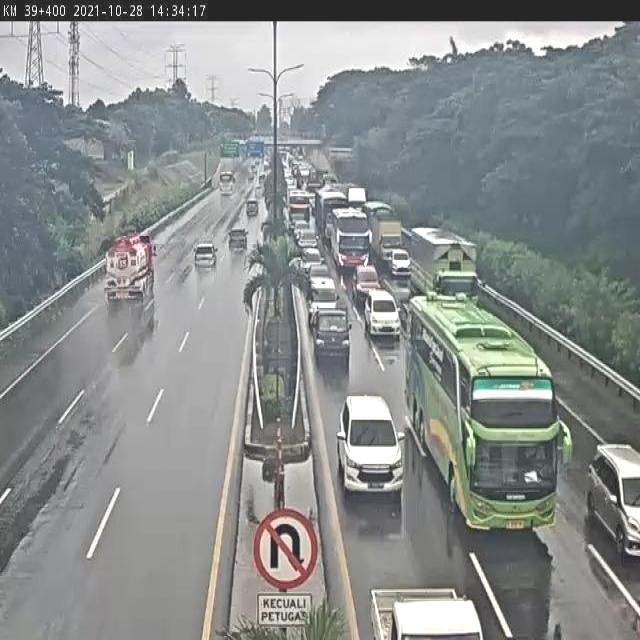Bus: (405, 291, 571, 534), (331, 207, 371, 269)
Car: (338, 394, 404, 498), (364, 288, 402, 339), (192, 242, 218, 275)
Truck: (410, 225, 484, 304), (103, 230, 157, 308)
